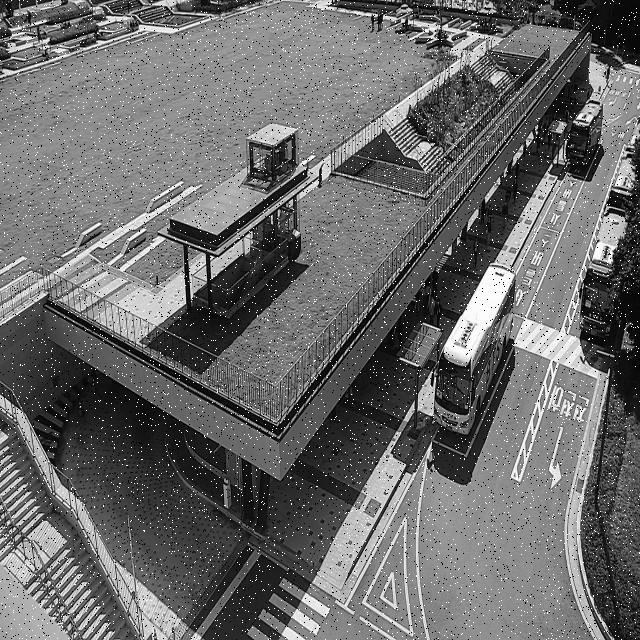queue: (412, 326, 442, 433)
